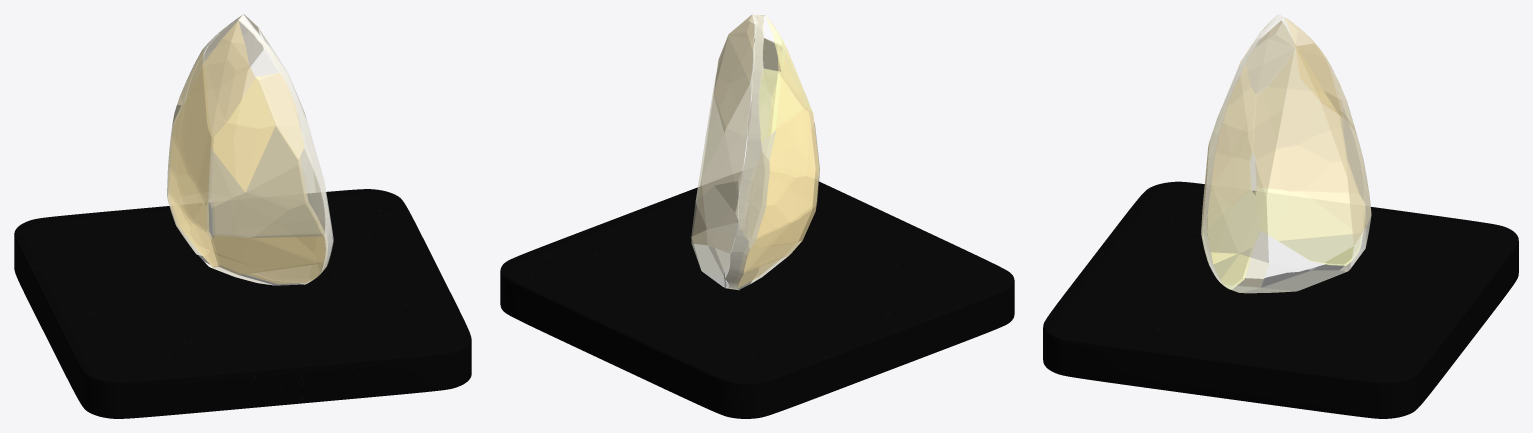
The model's file is incompAR.glb.
The picture shows the model from 3 angles, left to right: view 1: azimuth 30°, elevation 25°; view 2: azimuth 150°, elevation 25°; view 3: azimuth 270°, elevation 25°; orthographic projection. The views are drawn at different scales.
Parts seen in each view (by area): view 1: Rounded Cube Flat, body (×11); view 2: Rounded Cube Flat, body (×9); view 3: body (×16), Rounded Cube Flat.
Boxes of the visible parts, left/top/right/bottom form: Rounded Cube Flat: left=14, top=189, right=471, bottom=418; body (×11): left=167, top=14, right=333, bottom=284; Rounded Cube Flat: left=500, top=172, right=1014, bottom=418; body (×9): left=691, top=14, right=819, bottom=290; body (×16): left=1201, top=14, right=1371, bottom=293; Rounded Cube Flat: left=1043, top=181, right=1518, bottom=418.
Bounding box in the file's own units: 1.18 × 0.8302 × 1.18.
Materials: 15 (1 with a texture image).
